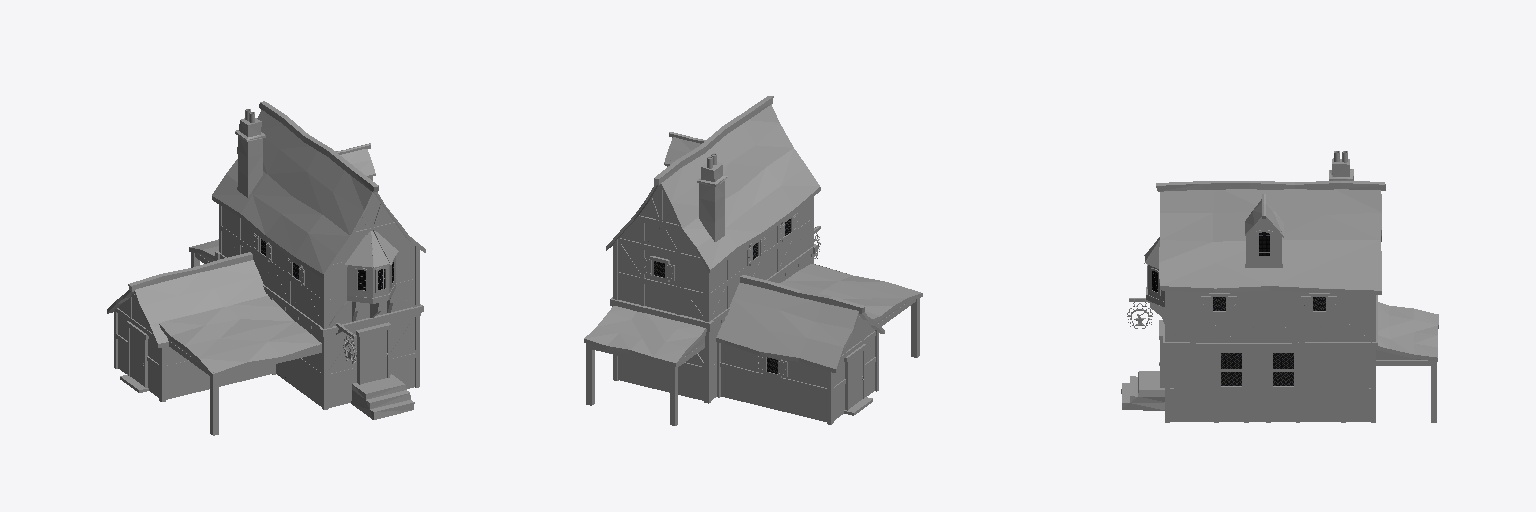
3 renders of one model, left to right at view 1: azimuth 30°, elevation 25°; view 2: azimuth 150°, elevation 25°; view 3: azimuth 270°, elevation 25°, orthographic.
Parts seen in each view (by area): view 1: Roof_Cube.006, WoodenBeams_Cube.408, RoofFrame_Cube.441, Level2.000_Cube.011, Level1_Cube.004, Level1.001_Cube.002, Steps_Cube.014, Chimney_Cube.418, Level2.001_Cube.003, WoodenBeamsExtraFront_Cube.026, DoorFront.001_Cube.008, WindowFrames_Cube.434 (+1 smaller); view 2: Roof_Cube.006, WoodenBeams_Cube.408, Level1.001_Cube.002, Level2.000_Cube.011, RoofFrame_Cube.441, Level1_Cube.004, Chimney_Cube.418, Level2.001_Cube.003, WoodenBeamsExtraBack_Cube.039, WindowFrames_Cube.434, WoodenBeamsExtraFront_Cube.026; view 3: Roof_Cube.006, WoodenBeams_Cube.408, Level1.001_Cube.002, Level2.000_Cube.011, RoofFrame_Cube.441, WindowFrames_Cube.434, Level2.001_Cube.003, Level1_Cube.004, Steps_Cube.014, WoodenBeamsExtraBack_Cube.039, Level3_Cube.440, Window2Level1_Cube.043 (+1 smaller).
Part boxes in pixels (bbox=[...]): Roof_Cube.006: bbox=[135, 110, 422, 373]; WoodenBeams_Cube.408: bbox=[114, 177, 423, 409]; RoofFrame_Cube.441: bbox=[107, 101, 425, 377]; Level2.000_Cube.011: bbox=[222, 194, 414, 326]; Level1_Cube.004: bbox=[118, 300, 414, 407]; Level1.001_Cube.002: bbox=[118, 298, 414, 407]; Steps_Cube.014: bbox=[352, 374, 414, 419]; Chimney_Cube.418: bbox=[235, 118, 265, 197]; Level2.001_Cube.003: bbox=[222, 196, 414, 325]; WoodenBeamsExtraFront_Cube.026: bbox=[167, 337, 321, 435]; DoorFront.001_Cube.008: bbox=[362, 331, 386, 383]; WindowFrames_Cube.434: bbox=[253, 233, 394, 292]; Roof_Cube.006: bbox=[584, 104, 920, 368]; WoodenBeams_Cube.408: bbox=[610, 160, 878, 424]; Level1.001_Cube.002: bbox=[618, 257, 874, 421]; Level2.000_Cube.011: bbox=[618, 186, 811, 319]; RoofFrame_Cube.441: bbox=[584, 96, 922, 372]; Level1_Cube.004: bbox=[618, 257, 874, 420]; Chimney_Cube.418: bbox=[697, 162, 727, 241]; Level2.001_Cube.003: bbox=[618, 187, 811, 319]; WoodenBeamsExtraBack_Cube.039: bbox=[586, 333, 705, 425]; WindowFrames_Cube.434: bbox=[643, 213, 797, 378]; WoodenBeamsExtraFront_Cube.026: bbox=[876, 298, 919, 357]; Roof_Cube.006: bbox=[1145, 189, 1438, 357]; WoodenBeams_Cube.408: bbox=[1144, 219, 1377, 422]; Level1.001_Cube.002: bbox=[1170, 352, 1370, 421]; Level2.000_Cube.011: bbox=[1170, 291, 1370, 342]; RoofFrame_Cube.441: bbox=[1156, 181, 1438, 361]; WindowFrames_Cube.434: bbox=[1147, 230, 1336, 387]; Level2.001_Cube.003: bbox=[1170, 291, 1370, 342]; Level1_Cube.004: bbox=[1170, 352, 1370, 421]; Steps_Cube.014: bbox=[1121, 371, 1164, 410]; WoodenBeamsExtraBack_Cube.039: bbox=[1376, 346, 1436, 422]; Level3_Cube.440: bbox=[1249, 219, 1279, 263]; Window2Level1_Cube.043: bbox=[1273, 353, 1293, 385].
Bounding box in the file's own units: 9.83 × 9.81 × 12.14.
Materials: 16 (2 with a texture image).